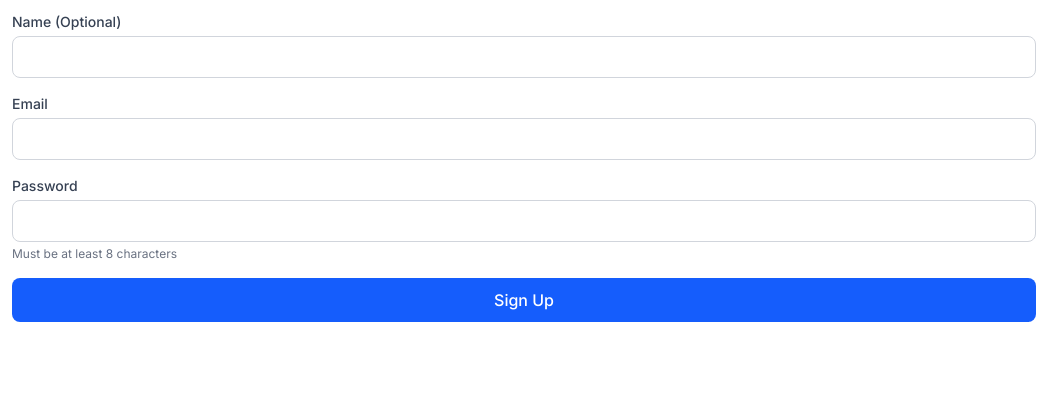
SignupForm Component › shows error from API response
Type "test@example.com" into the field labelled "Email".
click(524, 139); type("test@example.com")  # box [12, 118, 1036, 160]
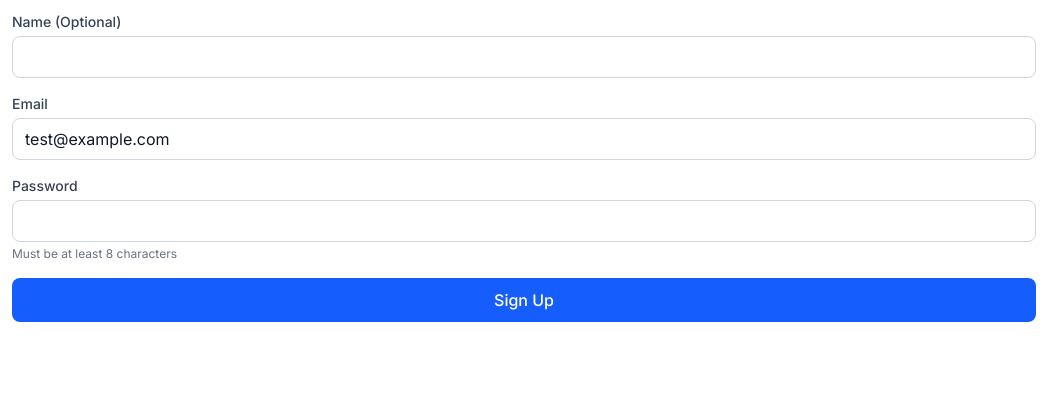
Type "password123" into the password field labelled "Password".
click(524, 221); type("password123")  # box [12, 200, 1036, 242]
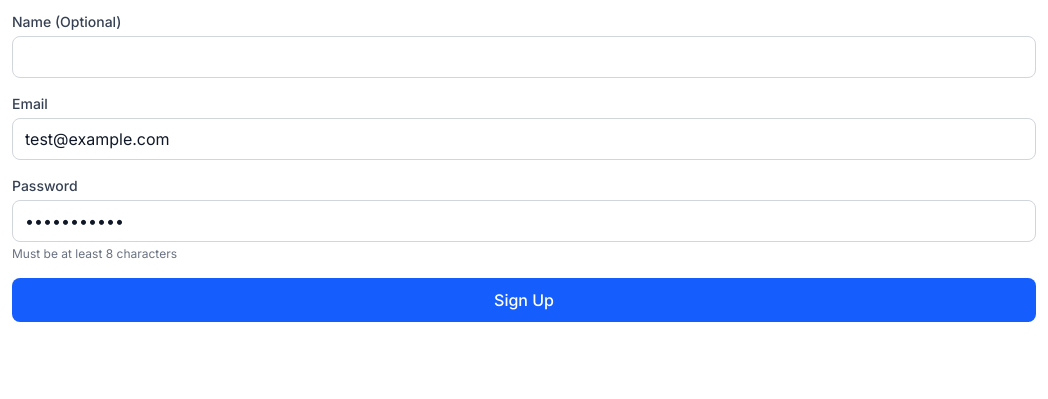
Click the button "Sign Up".
click(524, 300)  # box [12, 278, 1036, 322]
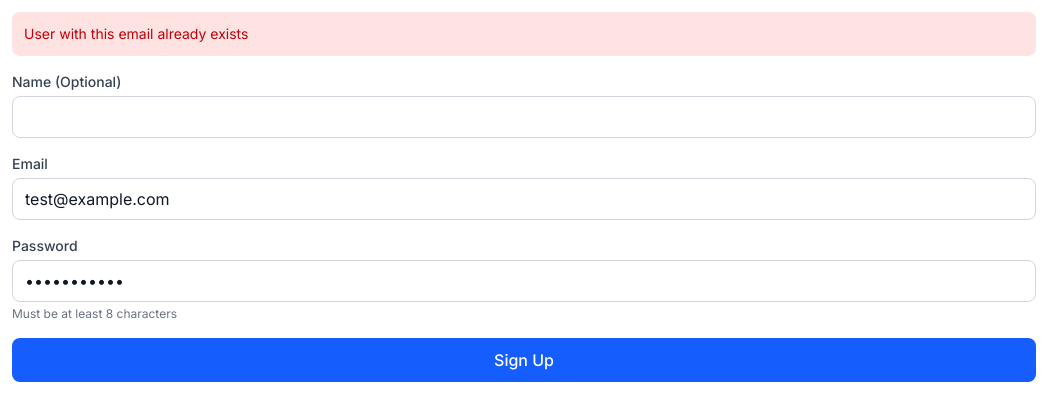
Check: the message reads "User with this email already exists", box [24, 25, 248, 42]
